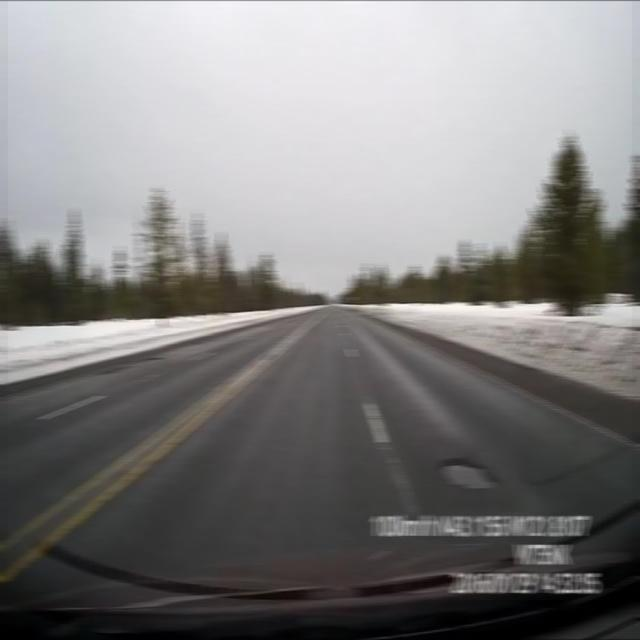Pothole: (435, 452, 507, 505)
